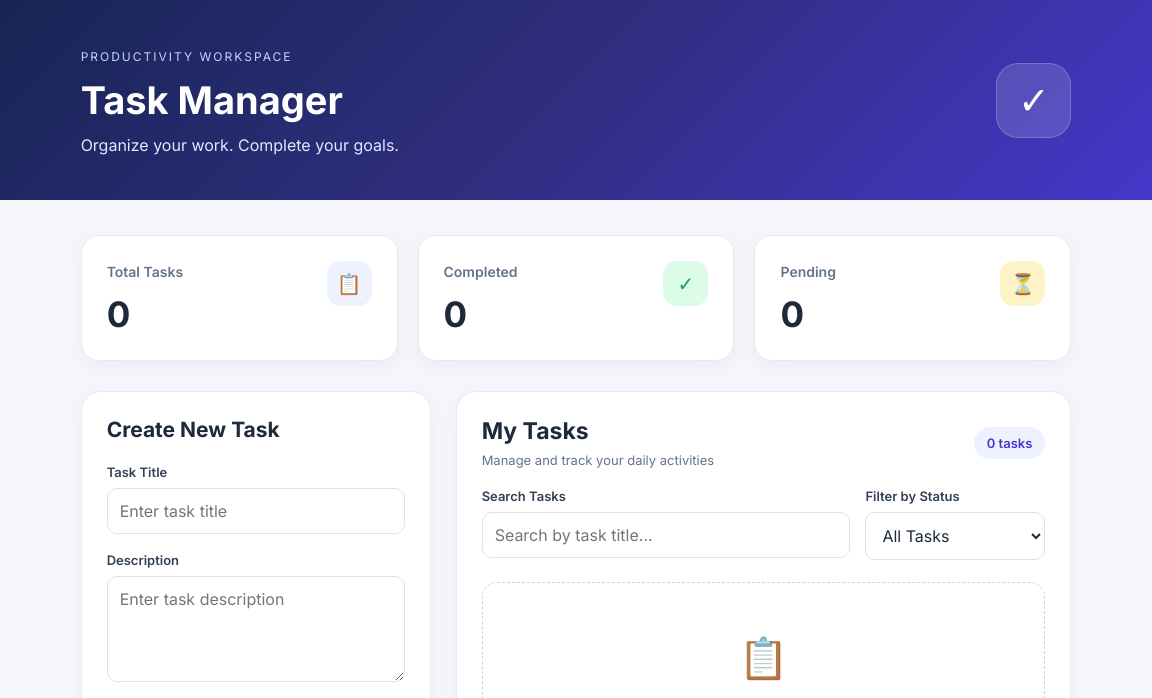
Test: Task Manager Integration Tests › saves tasks in localStorage
Type "Saved Task" into the field labelled "Task Title" at (256, 511), box top-left (107, 488), bottom-right (405, 534)
(page scrolled)
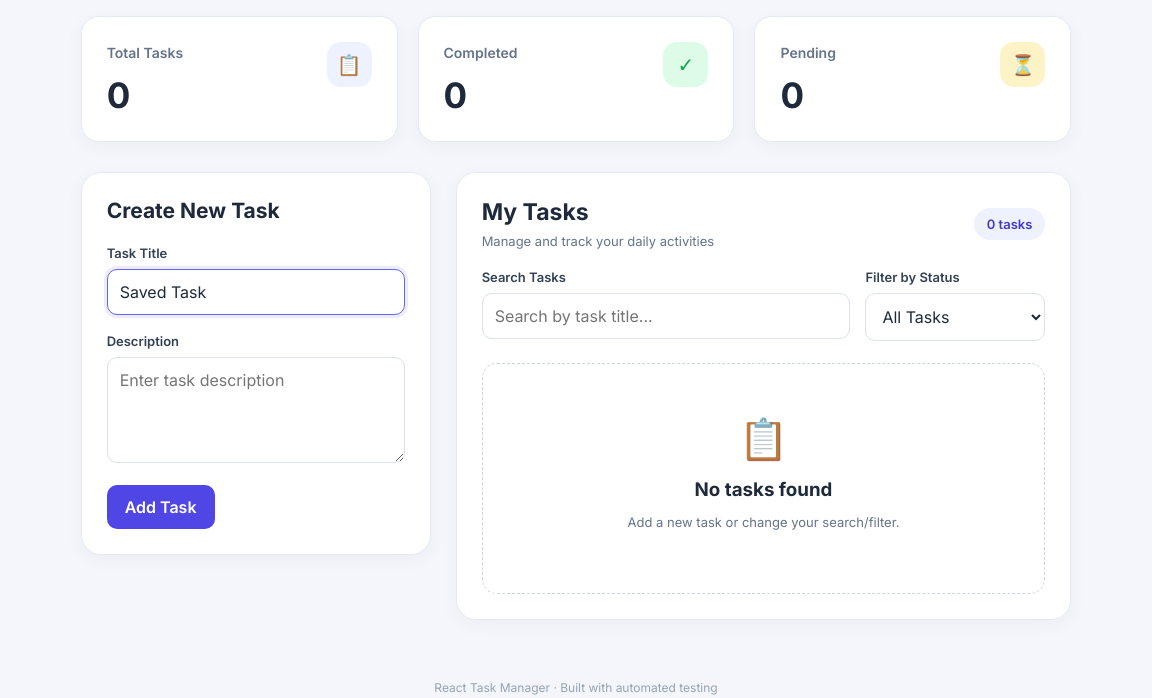
Click the button "Add Task" at (161, 507), box top-left (107, 485), bottom-right (214, 529)
(page scrolled)
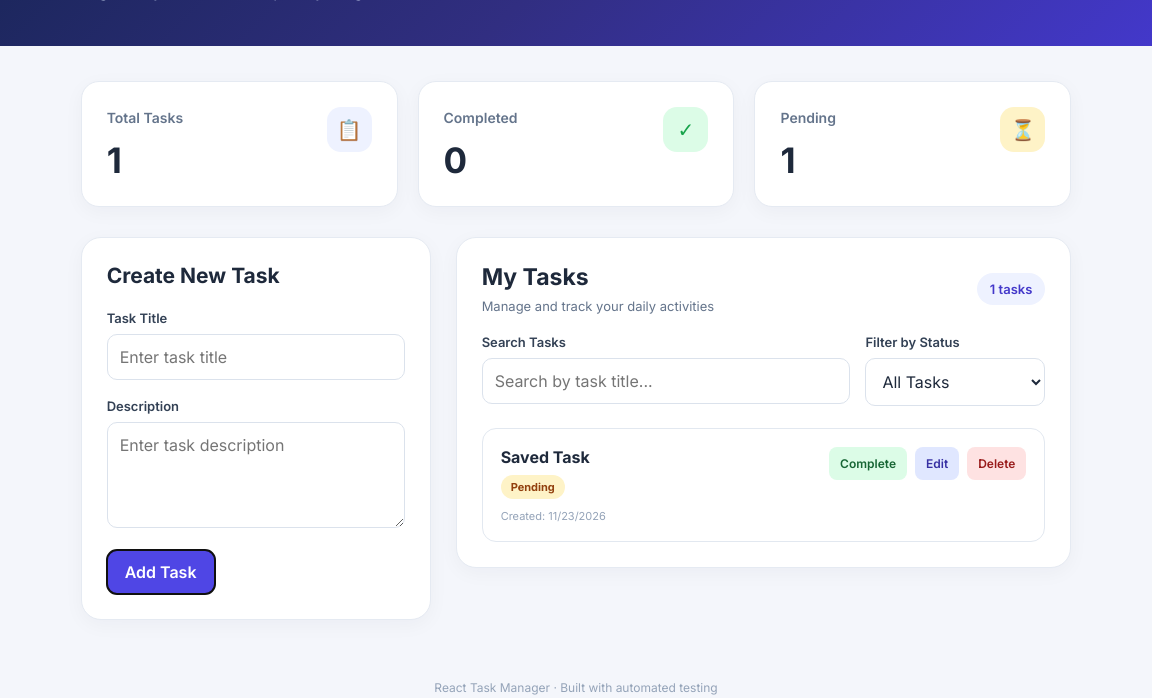
Now the heading "Saved Task" is shown, box top-left (501, 447), bottom-right (590, 467)
